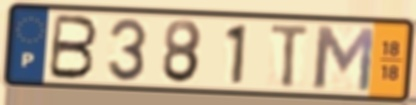1: (223, 23, 253, 86)
3: (105, 15, 150, 83)
8: (159, 17, 204, 86)
B: (45, 12, 101, 82)
M: (312, 23, 377, 95)
T: (269, 22, 313, 90)
